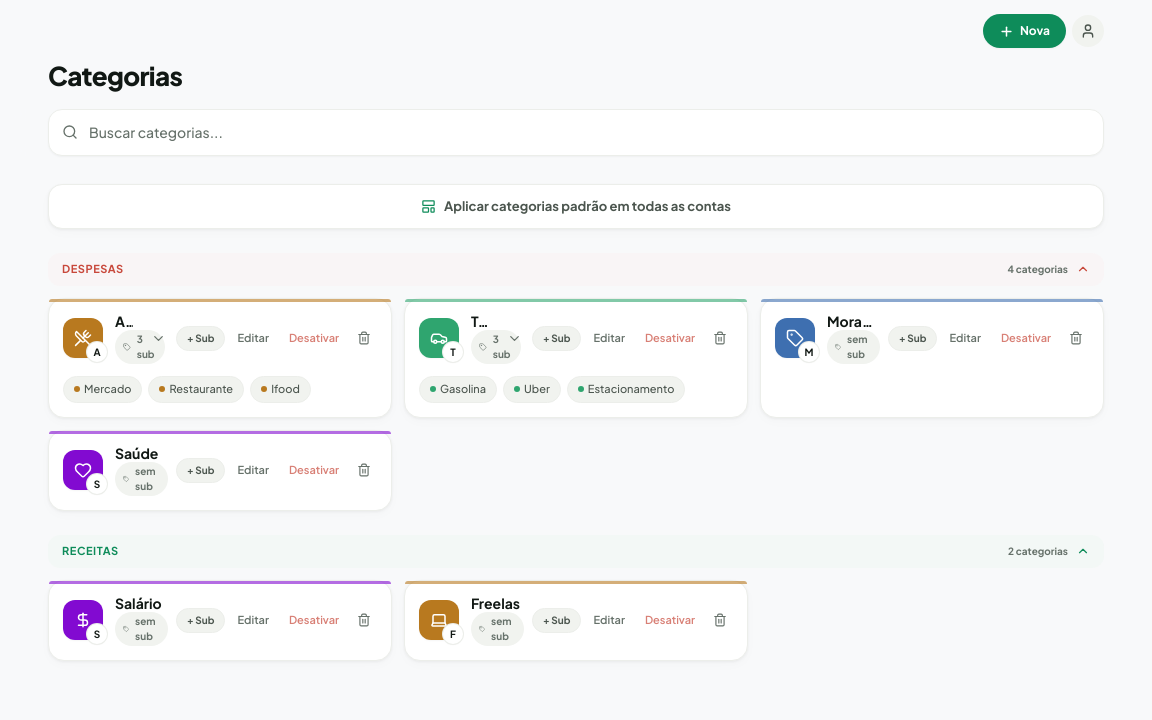
Test: CategoriesPage – Redesign Moderno (TDD RED) › exibe estado vazio com CTA elegante quando busca não encontra resultados
Type "ZZZ_INEXISTENTE_999" into the field with placeholder "Buscar categorias...".
click(576, 132); type("ZZZ_INEXISTENTE_999")  # box x1=48 y1=108 x2=1104 y2=156
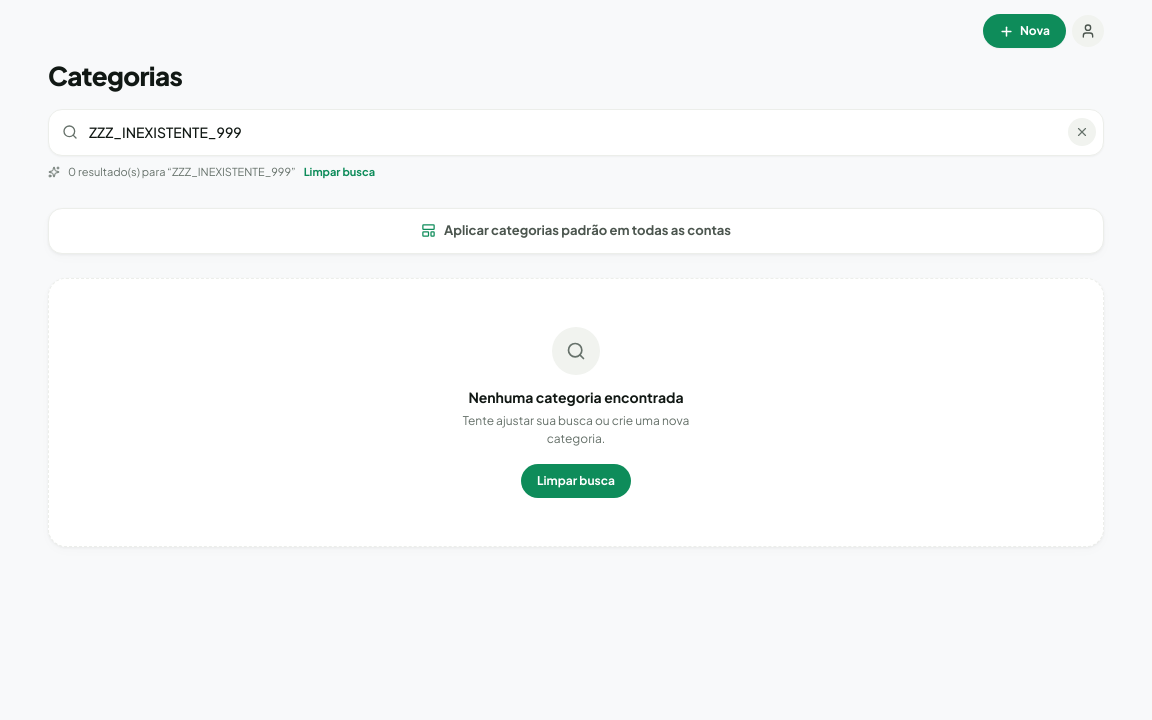
Expected: the text "Nenhuma categoria encontrada" is shown, x1=468 y1=388 x2=684 y2=406
